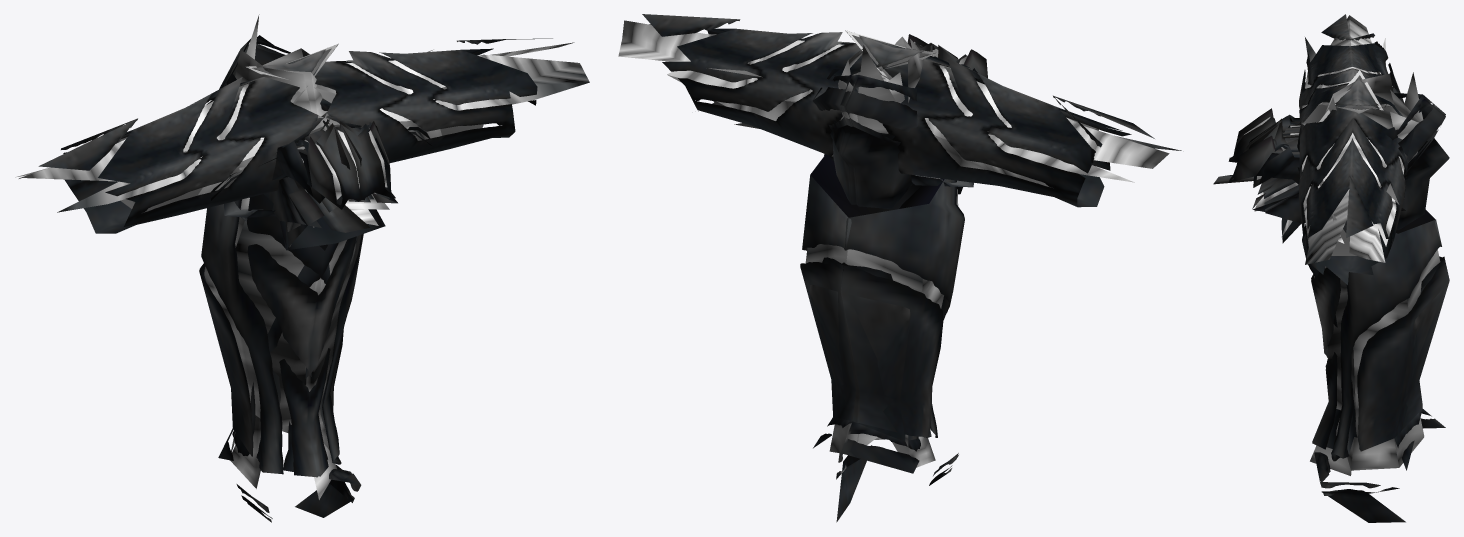
Rendered from weapon-beowulf.glb.
3 renders of one model, left to right at view 1: azimuth 30°, elevation 25°; view 2: azimuth 150°, elevation 25°; view 3: azimuth 270°, elevation 25°, orthographic. The views are drawn at different scales.
Parts seen in each view (by area): view 1: L_Forearm, L_Calf, R_Forearm, R_Calf, L_Foot, L_Toe, R_Toe, R_Foot, L_Hand; view 2: L_Forearm, L_Calf, R_Forearm, R_Calf, L_Foot, R_Foot, R_Toe, L_Hand; view 3: R_Calf, R_Forearm, L_Forearm, R_Foot, L_Calf, L_Foot, R_Toe, L_Toe.
Part boxes in pixels (left/top/right/bottom): L_Forearm: left=15, top=43, right=338, bottom=233; L_Calf: left=199, top=194, right=360, bottom=518; R_Forearm: left=245, top=38, right=589, bottom=162; R_Calf: left=218, top=234, right=363, bottom=522; L_Foot: left=219, top=14, right=397, bottom=250; L_Toe: left=272, top=121, right=391, bottom=203; R_Toe: left=283, top=112, right=385, bottom=209; R_Foot: left=233, top=35, right=395, bottom=248; L_Hand: left=211, top=49, right=433, bottom=217; L_Forearm: left=845, top=30, right=1181, bottom=207; L_Calf: left=809, top=178, right=964, bottom=482; R_Forearm: left=618, top=14, right=936, bottom=156; R_Calf: left=800, top=154, right=958, bottom=522; L_Foot: left=825, top=39, right=923, bottom=209; R_Foot: left=812, top=36, right=912, bottom=204; R_Toe: left=853, top=43, right=987, bottom=84; L_Hand: left=709, top=68, right=973, bottom=187; R_Calf: left=1302, top=219, right=1449, bottom=522; R_Forearm: left=1299, top=69, right=1408, bottom=284; L_Forearm: left=1299, top=14, right=1404, bottom=126; R_Foot: left=1263, top=89, right=1449, bottom=243; L_Calf: left=1302, top=209, right=1445, bottom=495; L_Foot: left=1213, top=72, right=1449, bottom=237; R_Toe: left=1228, top=108, right=1385, bottom=187; L_Toe: left=1228, top=104, right=1386, bottom=182.
Size of the model in its own units: 0.7527 by 0.644 by 0.3172.
Materials: 10 (10 with a texture image).
